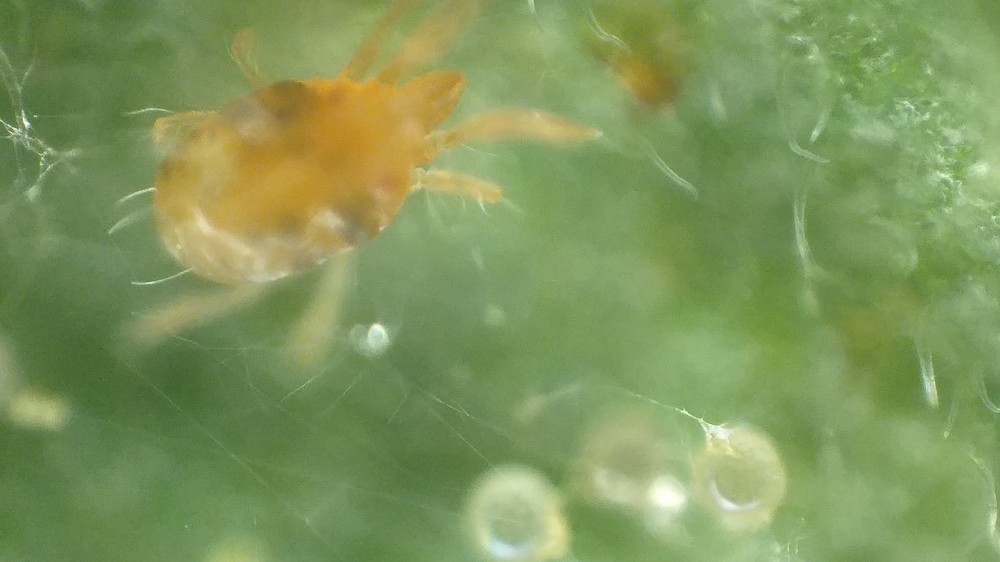Aracnido Rojo: (118, 6, 609, 369)
